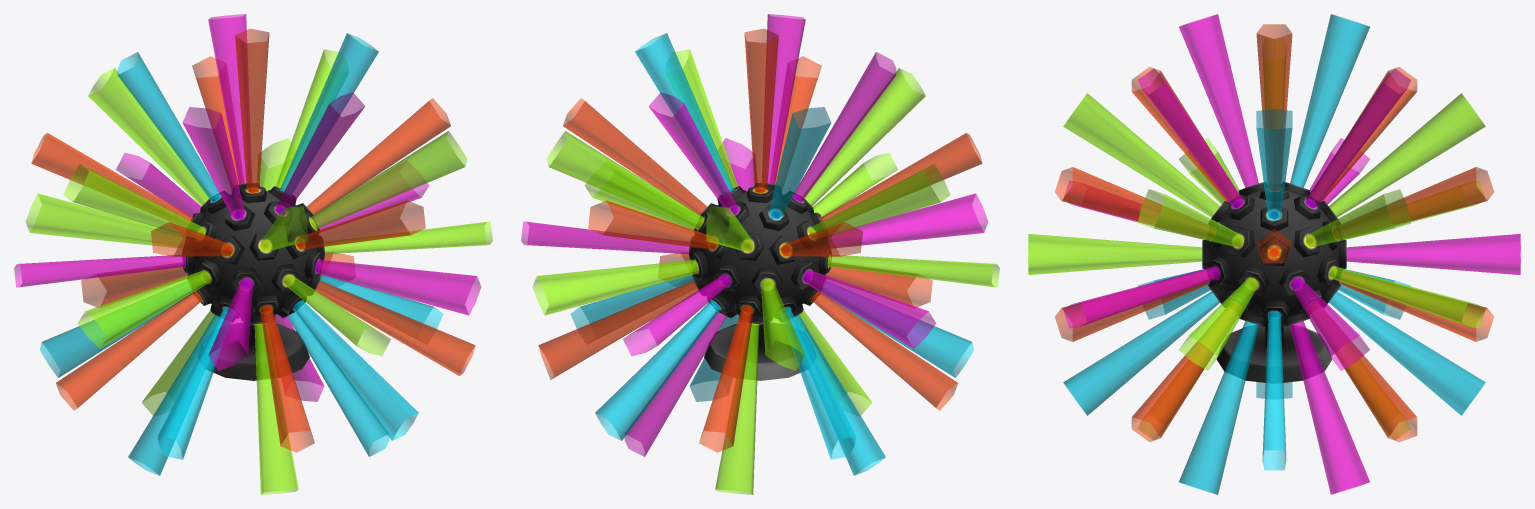
The model's file is mirrorball.FBX.
3 renders of one model, left to right at view 1: azimuth 30°, elevation 25°; view 2: azimuth 150°, elevation 25°; view 3: azimuth 270°, elevation 25°, orthographic. The views are drawn at different scales.
Parts seen in each view (by area): view 1: mirrorball (×2); view 2: mirrorball (×2); view 3: mirrorball (×2).
Boxes of the visible parts, x1,y1,x2,y2 form: mirrorball (×2): [14, 14, 492, 494]; mirrorball (×2): [521, 14, 999, 494]; mirrorball (×2): [1028, 14, 1520, 494].
Size of the model in its own units: 1671 by 1606 by 1711.
